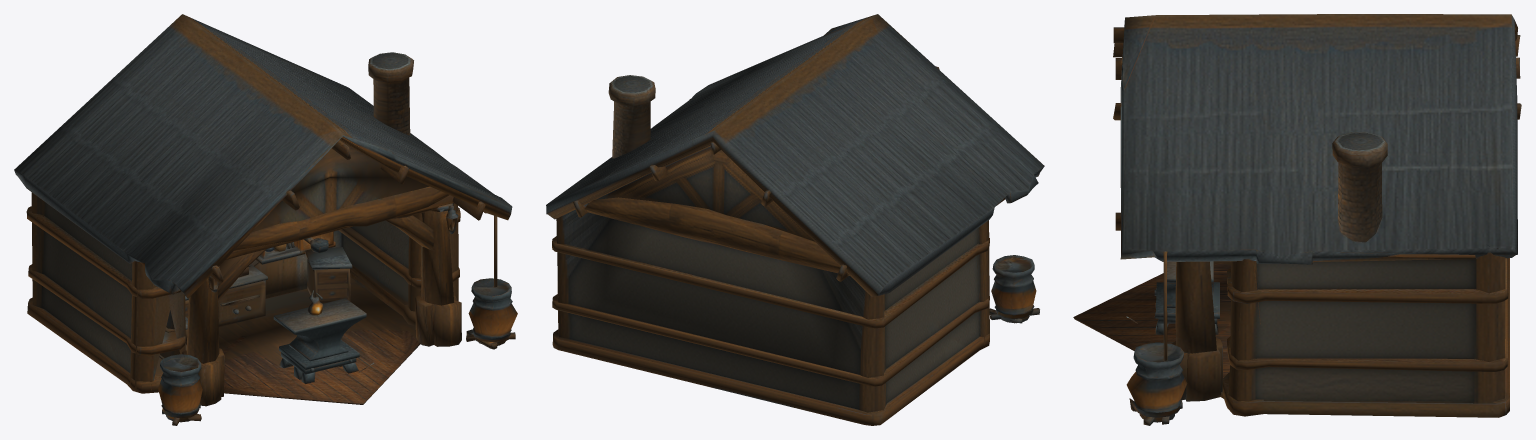
File: workshop.glb
The picture shows the model from 3 angles, left to right: view 1: azimuth 30°, elevation 25°; view 2: azimuth 150°, elevation 25°; view 3: azimuth 270°, elevation 25°; orthographic projection. The views are drawn at different scales.
Bounding box in the file's own units: 0.9502 × 0.6626 × 0.876.
1 material, 1 textured.
